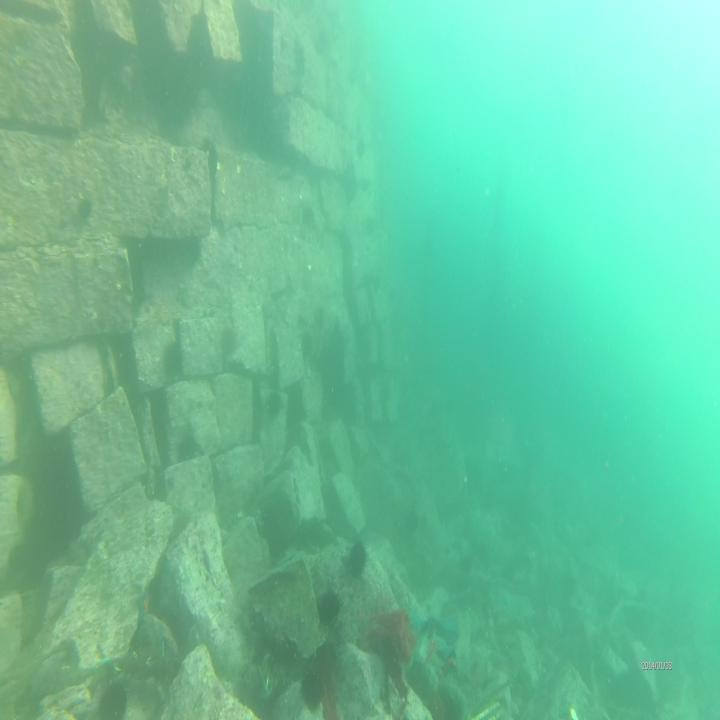echinus: (95, 674, 130, 720), (297, 664, 328, 712), (314, 588, 343, 632), (174, 426, 204, 467), (162, 334, 184, 386), (347, 536, 369, 585), (264, 387, 286, 427), (221, 318, 238, 360), (76, 191, 93, 230), (298, 205, 318, 237), (310, 303, 328, 335), (292, 37, 307, 72), (301, 325, 315, 360), (355, 132, 368, 162), (364, 216, 377, 239)
